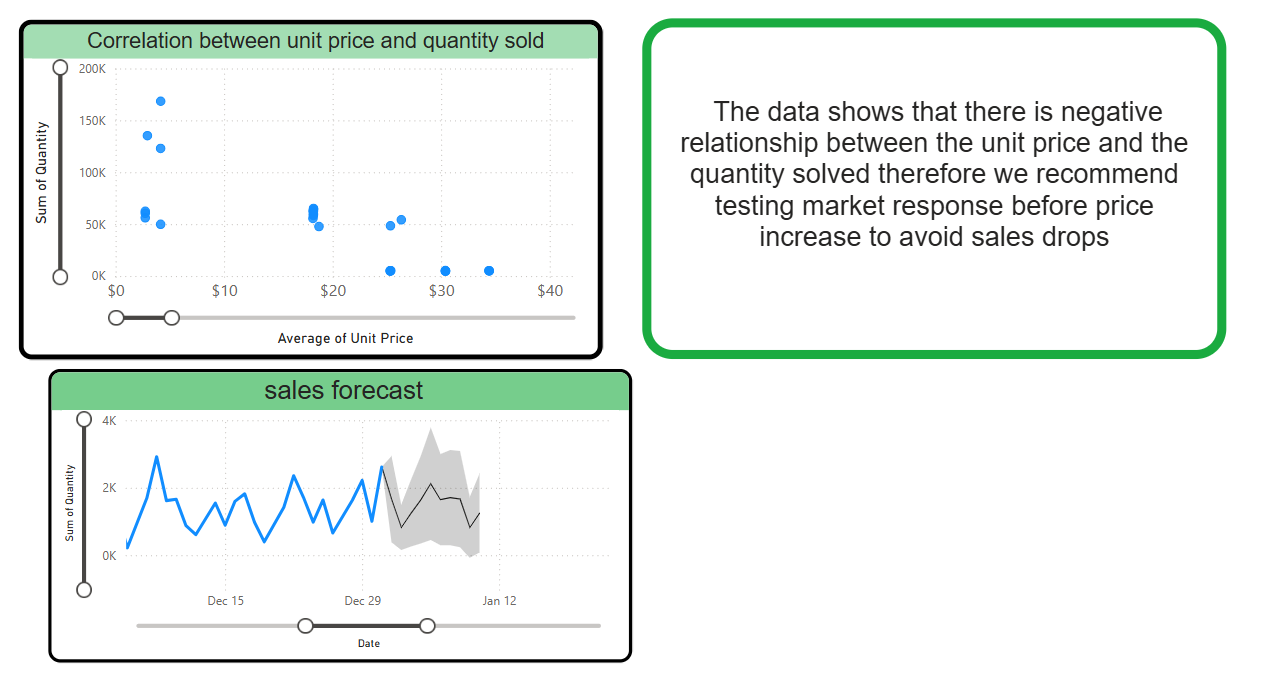

What the dashboard file says about the page in this screenshot:
{"tool":"powerbi","page":{"name":" insights","canvas":[1280,720],"ordinal":2},"visuals":[{"type":"scatterChart","title":"Correlation between unit price and quantity sold","fields":{"X":["Avg(sales all from wwimporters.Unit Price)"],"Y":["Sum(sales all from wwimporters.Quantity)"],"Category":["sales all from wwimporters.Description"]},"box":[64.2,54.6,575.8,335.8],"z":0},{"type":"lineChart","title":"sales forecast ","fields":{"Y":["Sum(sales all from wwimporters.Quantity)"],"Category":["date Table.Date"]},"box":[64.2,400,575.8,289.7],"z":1000},{"type":"textbox","box":[650,55,576,336],"z":2000}]}

Visuals, with their boxes in screenshot pixels (x1, y1, x2, y2):
"Correlation between unit price and quantity sold" scatterChart: bbox=[18, 15, 598, 353]
"sales forecast " lineChart: bbox=[18, 363, 598, 654]
textbox: bbox=[608, 16, 1187, 354]
